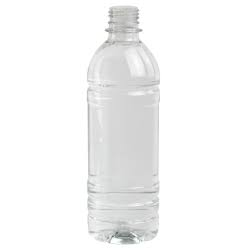PET Bottle: (87, 6, 159, 245)
